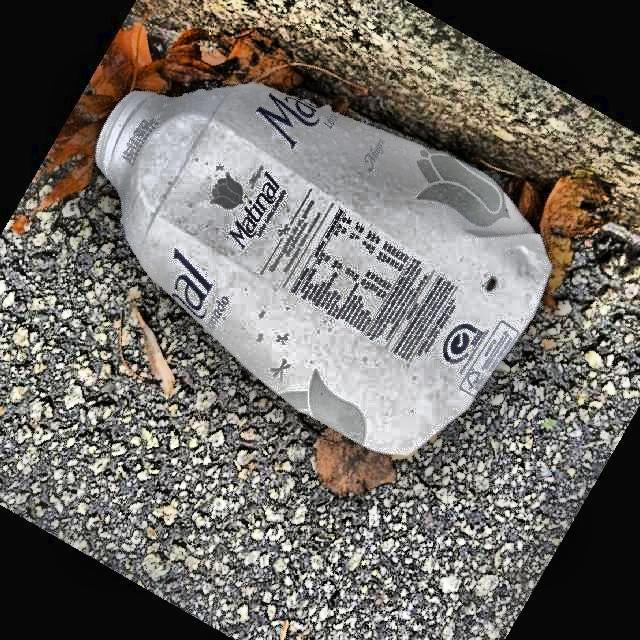plastic: (96, 85, 550, 455)
